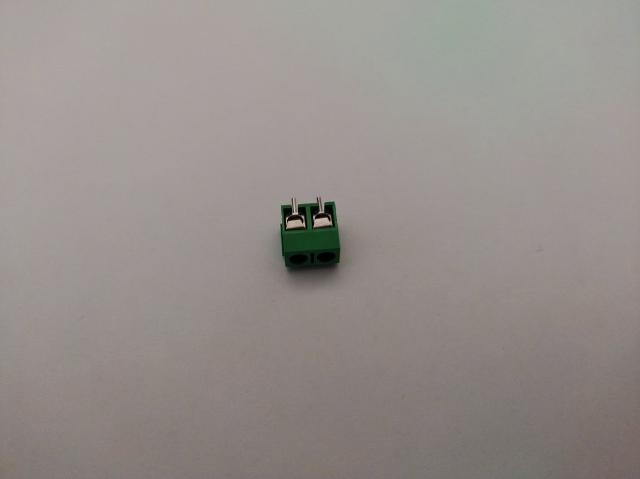terminal_block: (280, 196, 340, 270)
